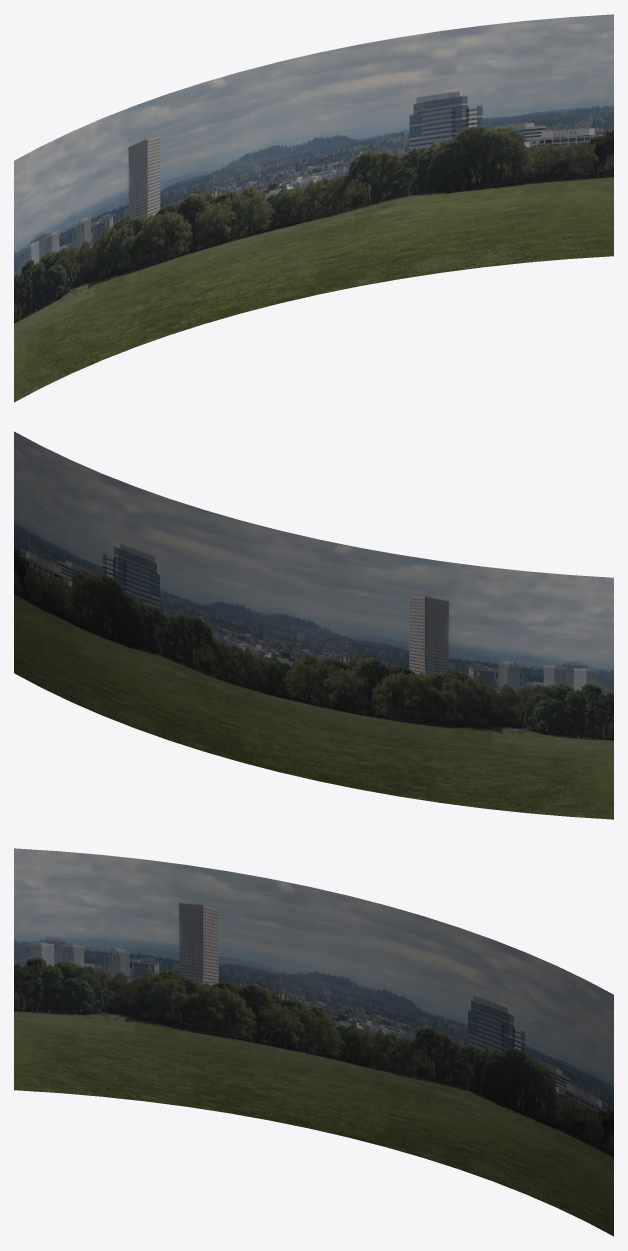
Rendered from skyline_waitingroom.dae.
3 renders of one model, top to bottom at view 1: azimuth 30°, elevation 25°; view 2: azimuth 150°, elevation 25°; view 3: azimuth 330°, elevation 25°, orthographic.
Visible parts, largest first — view 1: pPlane1; view 2: pPlane1; view 3: pPlane1.
Part boxes in pixels (x1,y1,x2,y2): pPlane1: [14, 14, 613, 402]; pPlane1: [14, 431, 613, 819]; pPlane1: [14, 848, 613, 1236].
Bounding box in the file's own units: 23.37 × 9 × 2.37.
